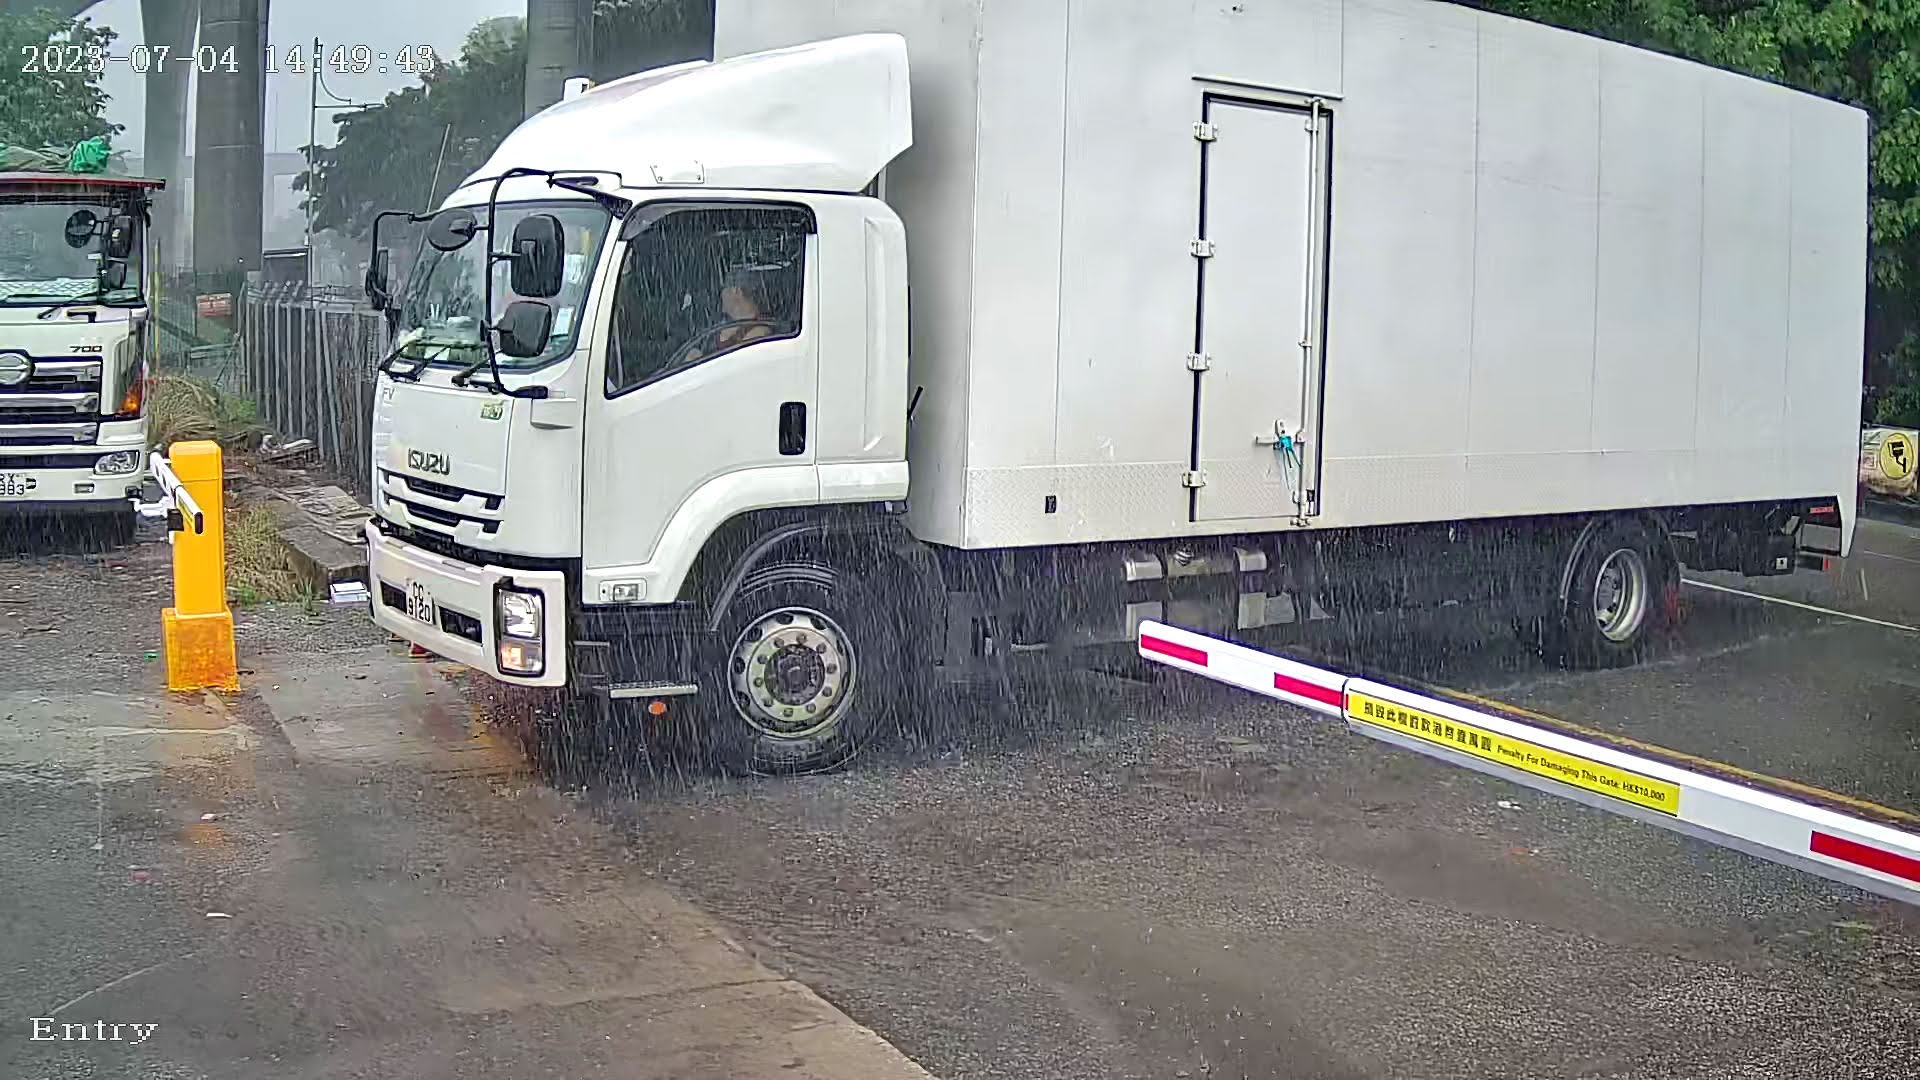truck: (328, 1, 1900, 777)
